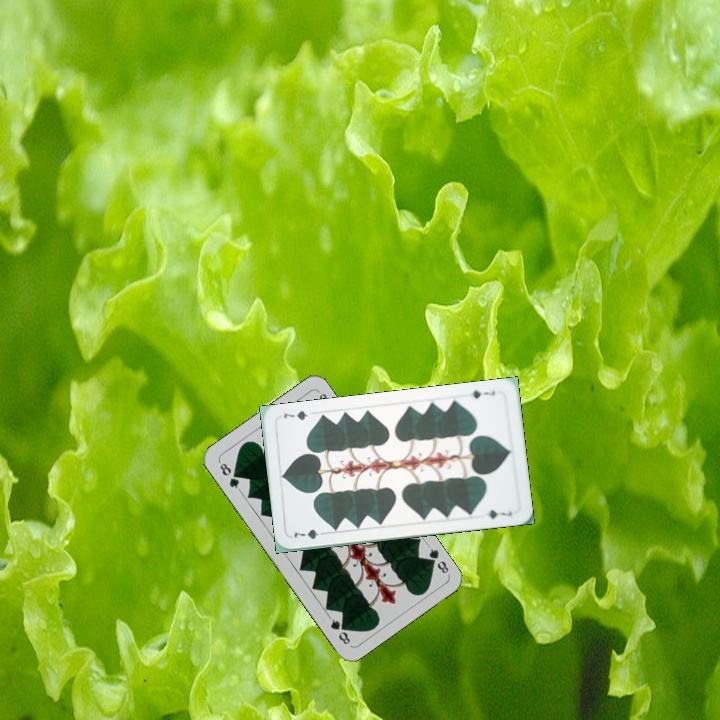G7: (290, 525, 329, 542), (462, 386, 498, 401)
G8: (422, 541, 452, 578), (215, 457, 243, 493)
